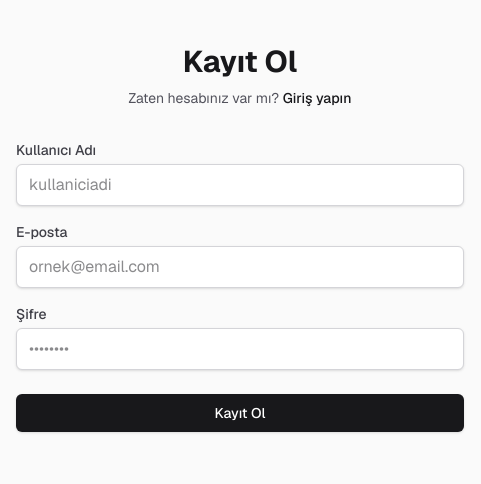
authentication pages › shows sign-up errors from unknown failures
The image size is (481, 484).
Type "tester" into the field labelled "Kullanıcı Adı" at (240, 185), box [16,164,464,206]
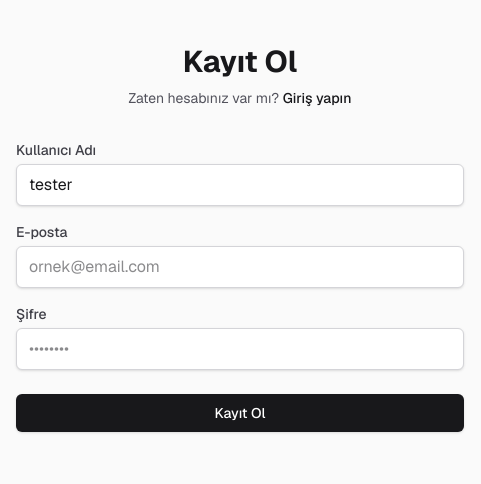
Type "user@example.com" into the field labelled "E-posta" at (240, 267), box [16,246,464,288]
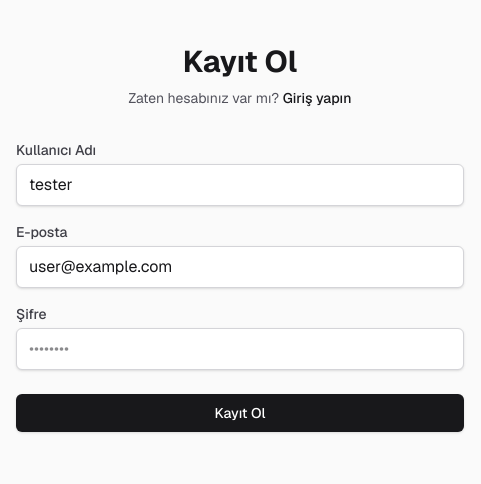
Type "secret123" into the password field labelled "Şifre" at (240, 349), box [16,328,464,370]
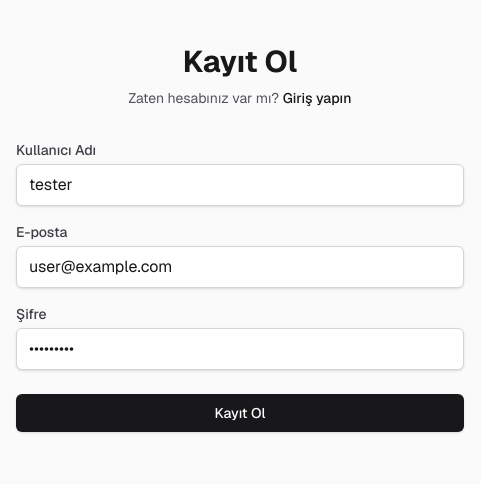
Click the button "Kayıt Ol" at (240, 413), box [16,394,464,432]
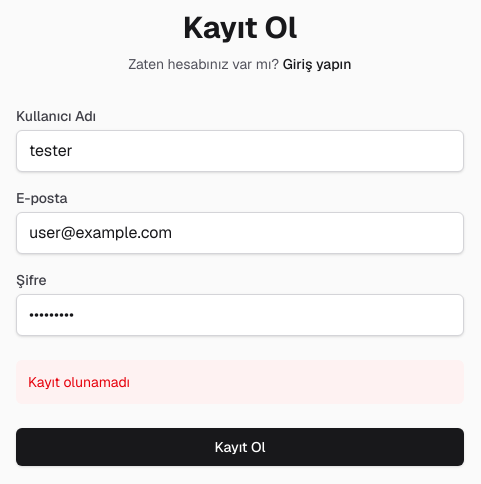
Check: the button reads "Kayıt Ol", box [16,428,464,466]
Check: the text "Kayıt olunamadı" is shown, box [16,360,464,404]
